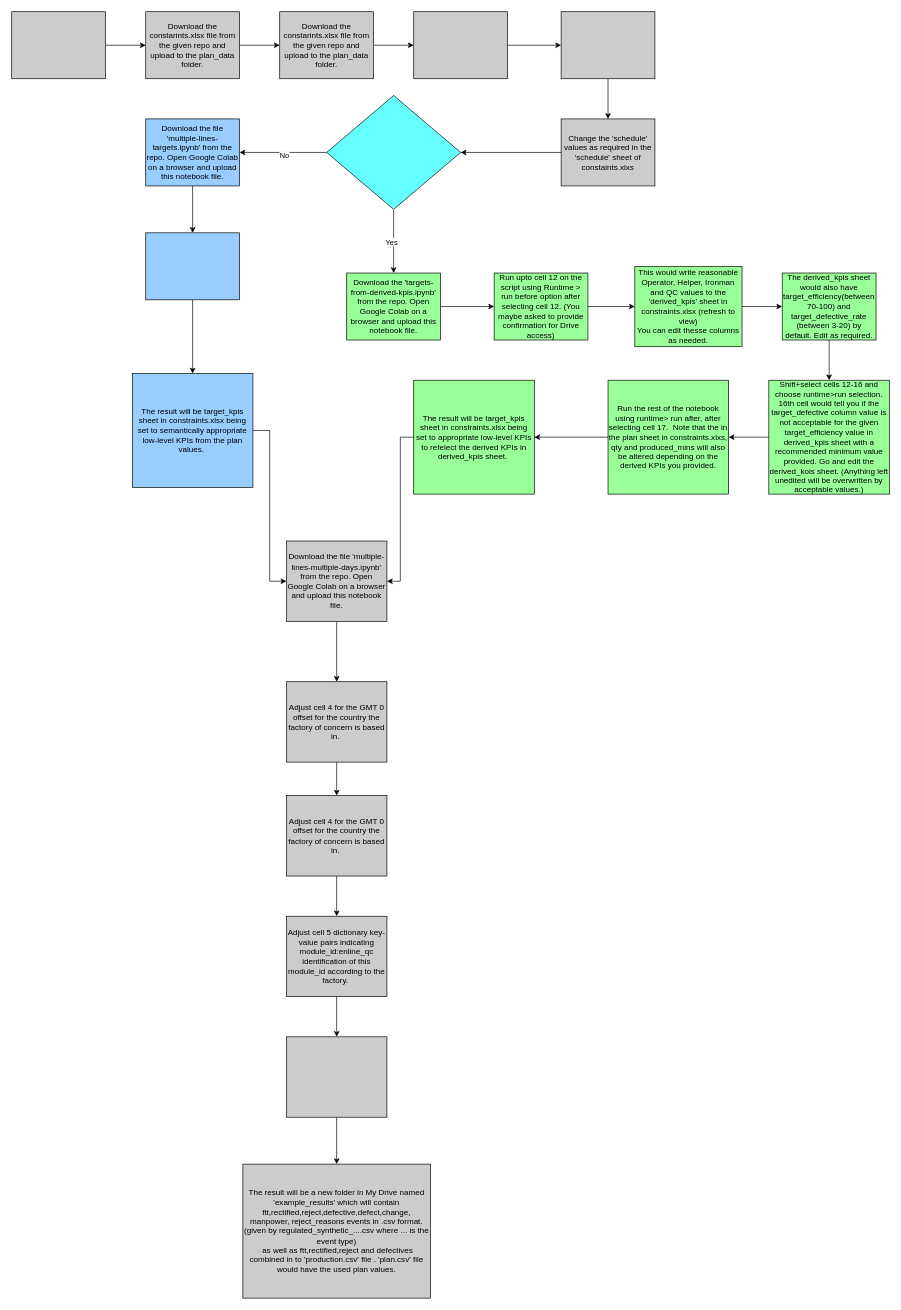
Some shapes in this 901 by 1310 pixel diagram are drawn without their labels. Here are the shapes that lost their labels. From the top down, the centre of each, then its label:
the point at 58,45: Create a folder named 'plan_data' on Google Drive > My Drive
the point at 460,45: Change the 'plan' values as required in the 'plan' sheet of constaints.xlxs
the point at 607,45: Download all 6 files with .pkl extension and upload to plan_data folder.
the point at 393,152: Do you want to generate events for a specific derived KPI?
the point at 192,266: Select runtime>run all option from the tab .
the point at 336,1076: Select runtime>run all option to run the whole script.
